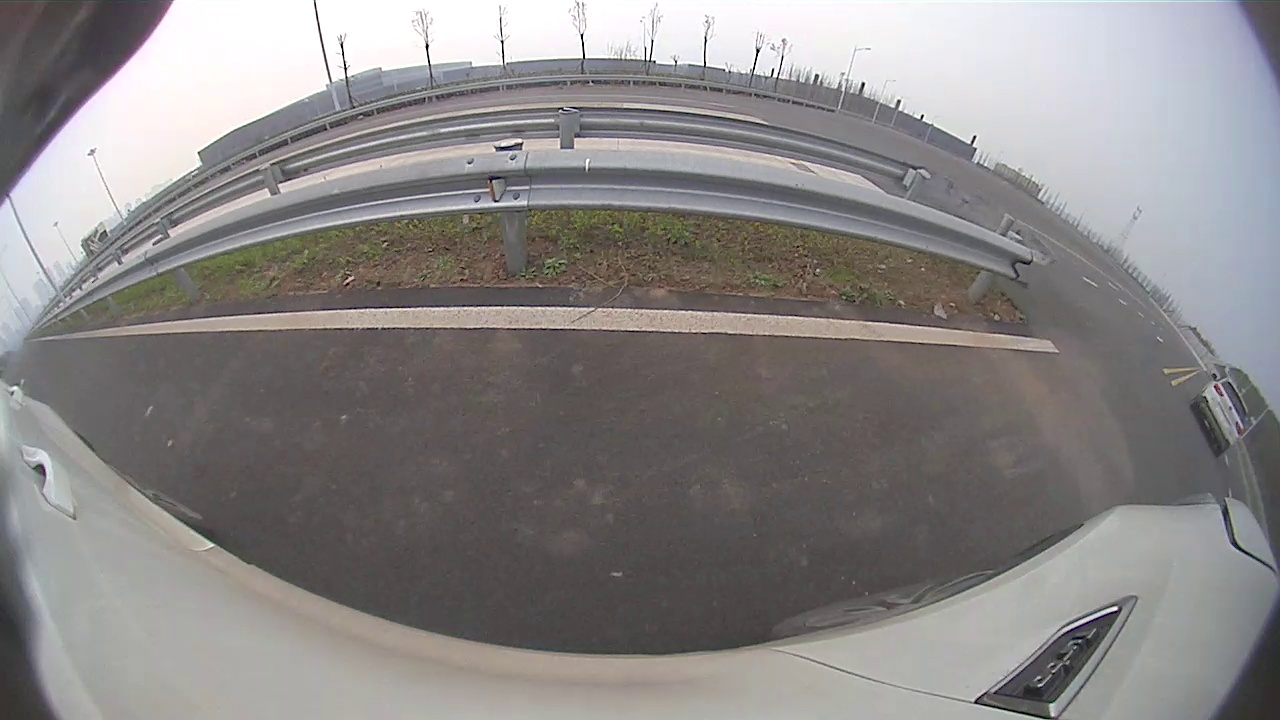car: (370, 120, 567, 251)
front: (551, 178, 566, 211)
rear: (494, 184, 520, 238)
